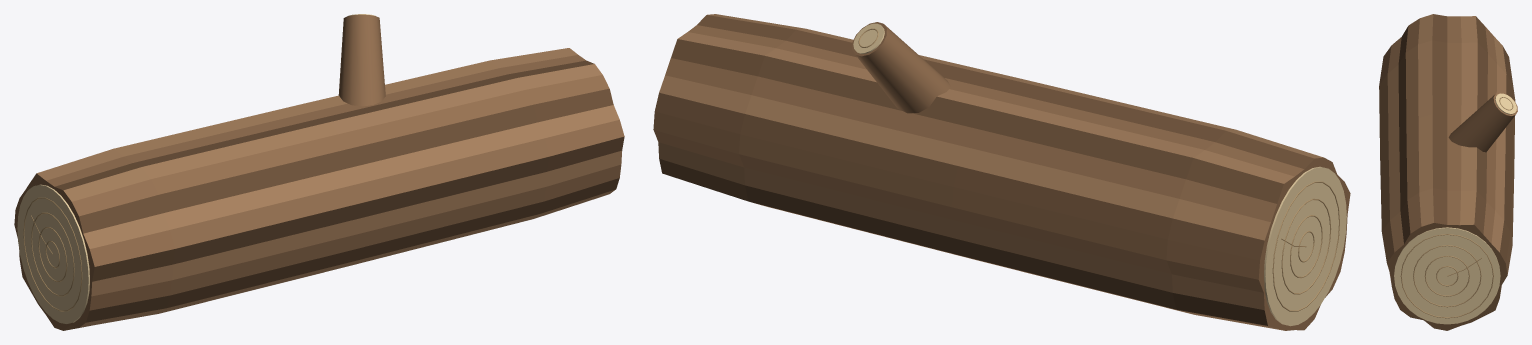
File: log_fallen.glb
The picture shows the model from 3 angles, left to right: view 1: azimuth 30°, elevation 25°; view 2: azimuth 150°, elevation 25°; view 3: azimuth 270°, elevation 25°; orthographic projection. The views are drawn at different scales.
Parts seen in each view (by area): view 1: Fallen_Log_Closed_Fluted_Bark_Body, Fallen_Log_Pale_Cut_End_-1, Fallen_Log_Connected_Branch_Stub; view 2: Fallen_Log_Closed_Fluted_Bark_Body, Fallen_Log_Pale_Cut_End_-1, Fallen_Log_Connected_Branch_Stub, Fallen_Log_Branch_Stub_Cut_End, Fallen_Log_Cut_End_-1_Growth_Ring_3; view 3: Fallen_Log_Closed_Fluted_Bark_Body, Fallen_Log_Pale_Cut_End_1, Fallen_Log_Connected_Branch_Stub, Fallen_Log_Cut_End_1_Growth_Ring_3, Fallen_Log_Branch_Stub_Cut_End, Fallen_Log_Cut_End_1_Growth_Ring_2, Fallen_Log_Cut_End_1_Growth_Ring_1.
Part boxes in pixels (x1=…): Fallen_Log_Closed_Fluted_Bark_Body: x1=14, y1=48, x2=624, y2=330; Fallen_Log_Pale_Cut_End_-1: x1=17, y1=184, x2=89, y2=323; Fallen_Log_Connected_Branch_Stub: x1=338, y1=14, x2=385, y2=106; Fallen_Log_Closed_Fluted_Bark_Body: x1=653, y1=14, x2=1350, y2=330; Fallen_Log_Pale_Cut_End_-1: x1=1264, y1=166, x2=1346, y2=326; Fallen_Log_Connected_Branch_Stub: x1=852, y1=22, x2=950, y2=113; Fallen_Log_Branch_Stub_Cut_End: x1=853, y1=23, x2=884, y2=53; Fallen_Log_Cut_End_-1_Growth_Ring_3: x1=1272, y1=181, x2=1339, y2=311; Fallen_Log_Closed_Fluted_Bark_Body: x1=1379, y1=14, x2=1515, y2=330; Fallen_Log_Pale_Cut_End_1: x1=1394, y1=227, x2=1500, y2=324; Fallen_Log_Connected_Branch_Stub: x1=1448, y1=92, x2=1517, y2=152; Fallen_Log_Cut_End_1_Growth_Ring_3: x1=1400, y1=234, x2=1493, y2=318; Fallen_Log_Branch_Stub_Cut_End: x1=1495, y1=93, x2=1516, y2=114; Fallen_Log_Cut_End_1_Growth_Ring_2: x1=1413, y1=245, x2=1481, y2=307; Fallen_Log_Cut_End_1_Growth_Ring_1: x1=1424, y1=255, x2=1469, y2=296.
Bounding box in the file's own units: 1.51 × 0.5631 × 0.4272.
